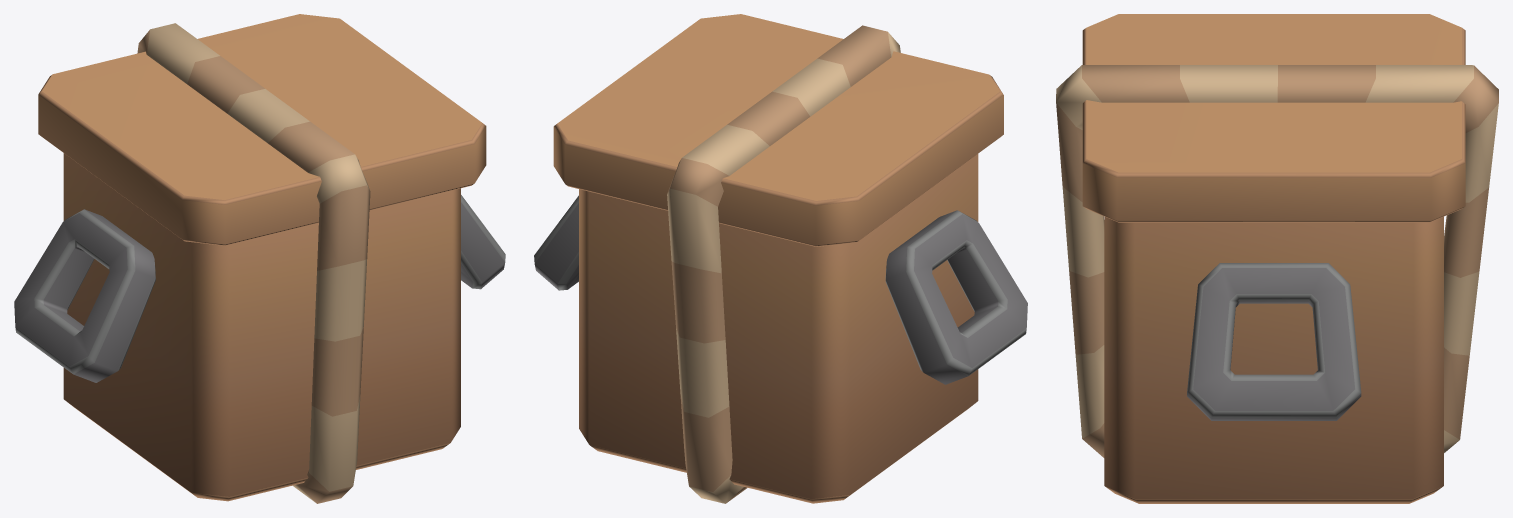
File: WoodCrate_1.fbx
The picture shows the model from 3 angles, left to right: view 1: azimuth 30°, elevation 25°; view 2: azimuth 150°, elevation 25°; view 3: azimuth 270°, elevation 25°; orthographic projection. The views are drawn at different scales.
Parts seen in each view (by area): view 1: WoodCrate_1; view 2: WoodCrate_1; view 3: WoodCrate_1.
Part boxes in pixels (x1,y1,x2,y2): WoodCrate_1: (14, 14, 505, 503); WoodCrate_1: (534, 14, 1027, 503); WoodCrate_1: (1056, 14, 1498, 503).
Bounding box in the file's own units: 106 × 82 × 85.56.
